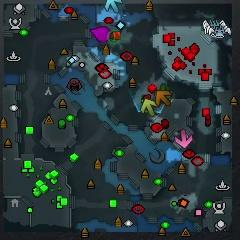Other: (108, 29, 122, 44)
p3: (90, 26, 111, 43)
x1: (175, 129, 193, 148)
x2: (141, 98, 157, 116)
x3: (105, 0, 123, 14)
x4: (161, 83, 172, 100)
x5: (155, 91, 172, 106)
